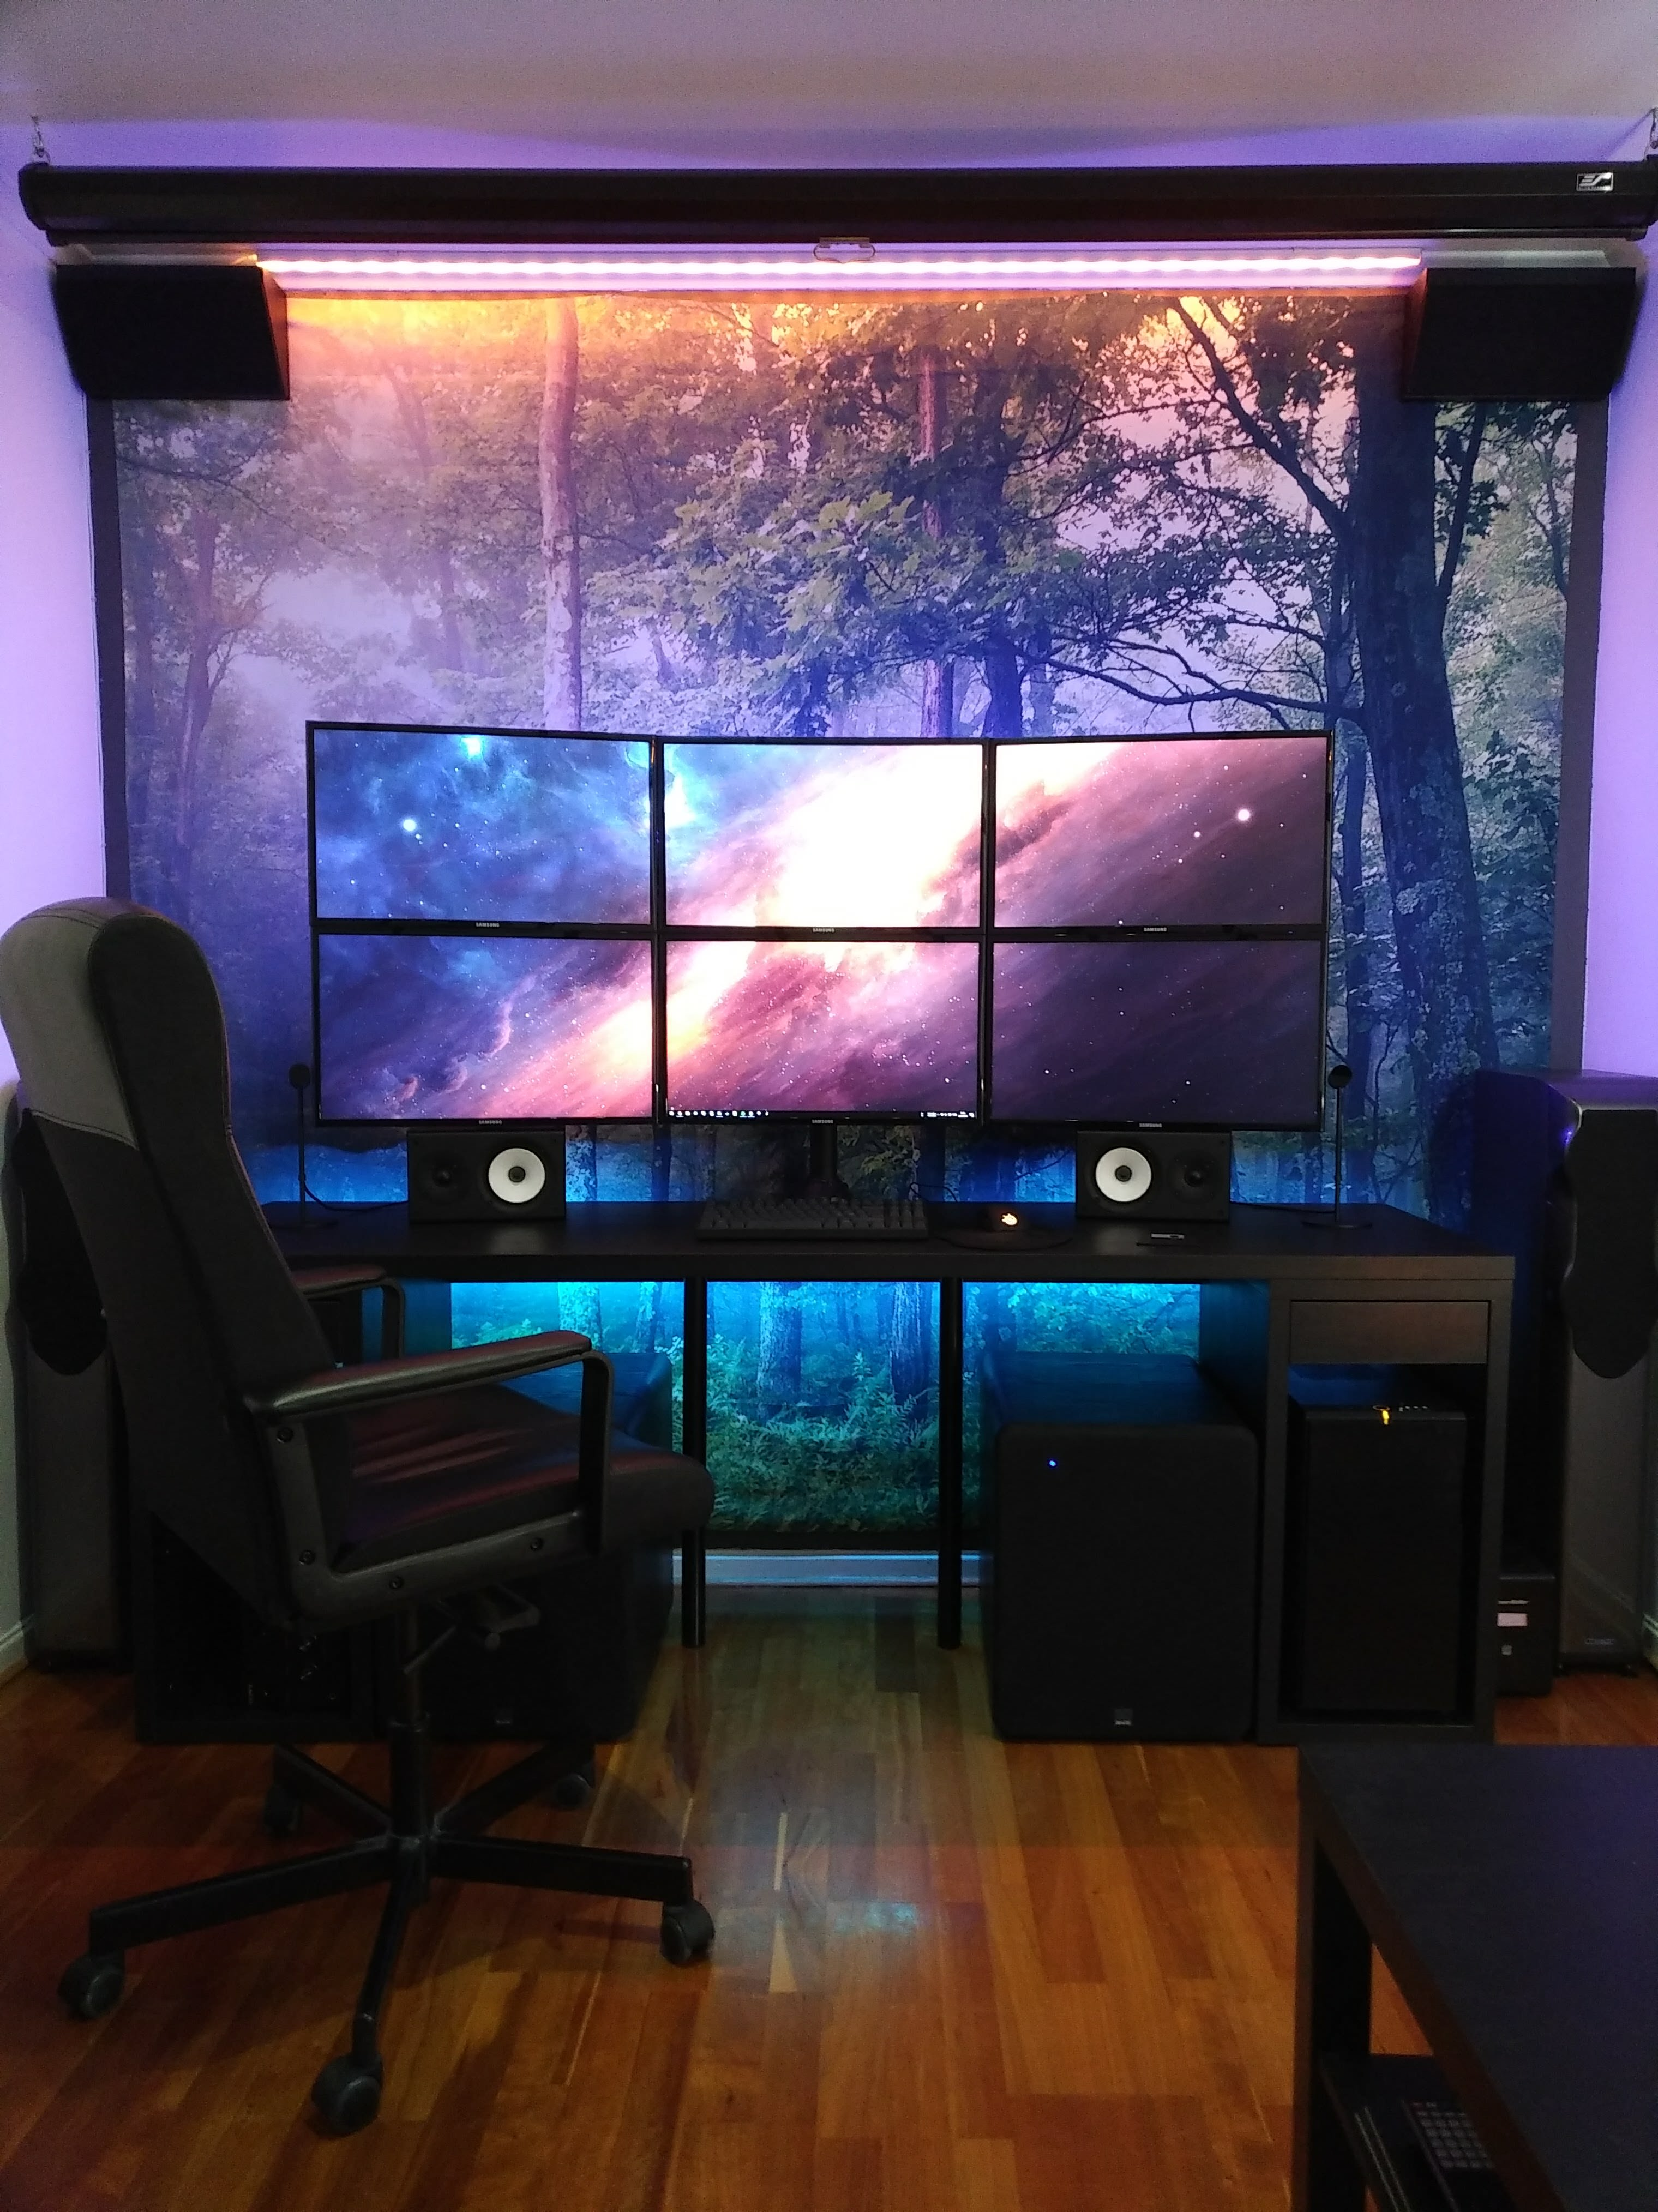Chair (Generic): (0, 887, 704, 1733)
Desk (Generic): (165, 1216, 1526, 1754)
Desktop (Windows): (1273, 1360, 1498, 1731)
External Microphone (Generic): (277, 1050, 345, 1237), (1311, 1055, 1374, 1235)
External Speakers (Generic): (1386, 246, 1658, 418), (42, 258, 303, 406)
External Speakers (Subwoofers): (401, 1118, 575, 1221), (1066, 1129, 1245, 1214)
Keyboard (Generic): (690, 1188, 935, 1245)
Monitor (Landscape): (301, 718, 664, 930), (981, 726, 1343, 935), (987, 932, 1327, 1136), (313, 930, 660, 1127), (657, 728, 991, 932), (662, 934, 987, 1130)
Mouse (Gaming): (977, 1195, 1035, 1237)
